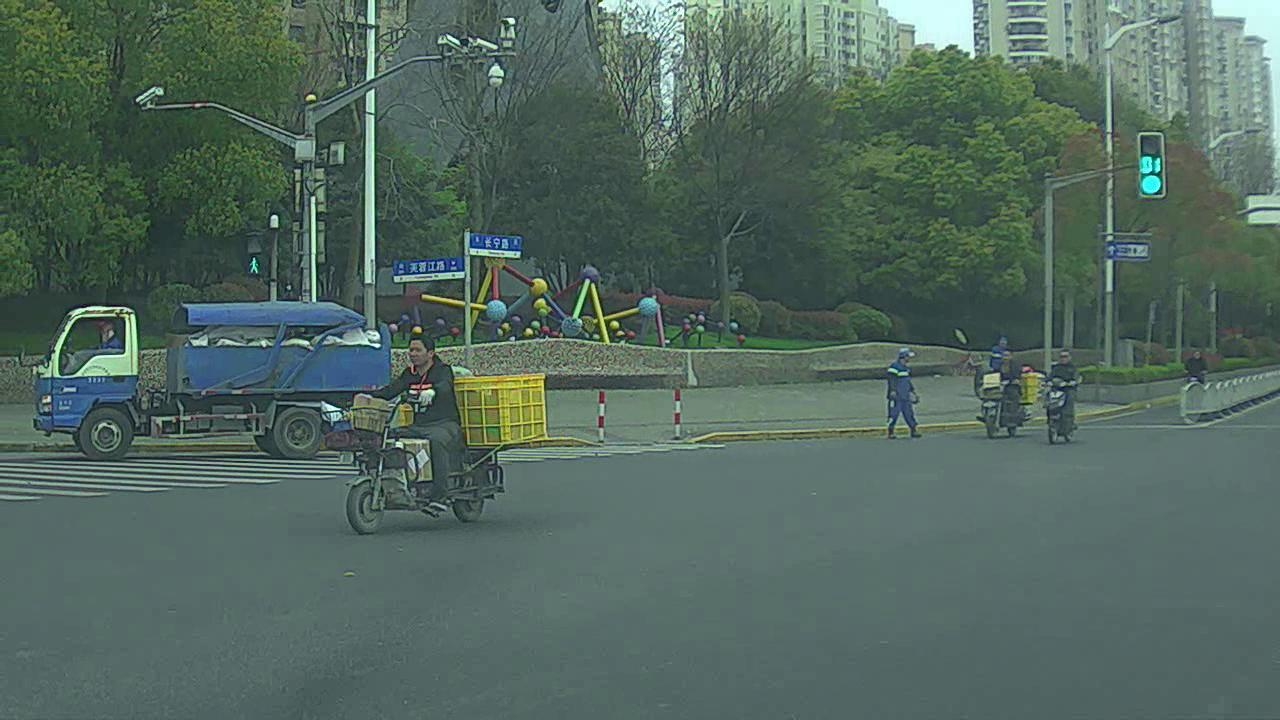traffic_light: (1138, 133, 1169, 198)
